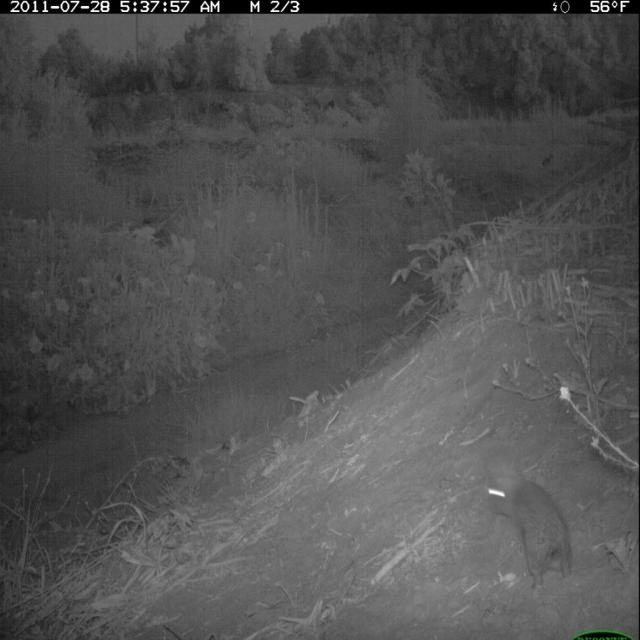rabbit: (483, 448, 572, 589)
